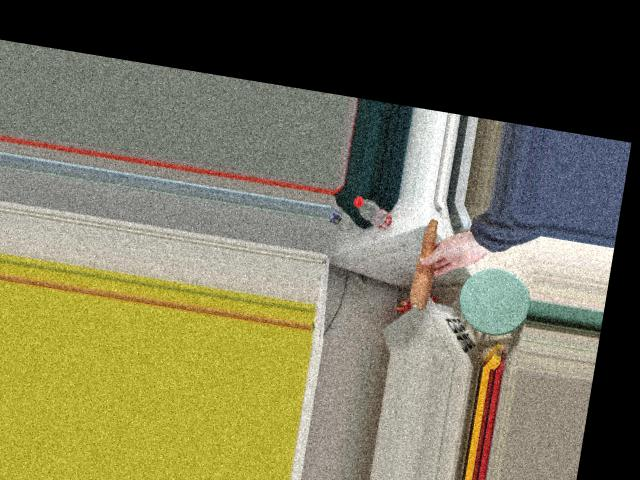sweet_potato: (407, 216, 450, 310)
